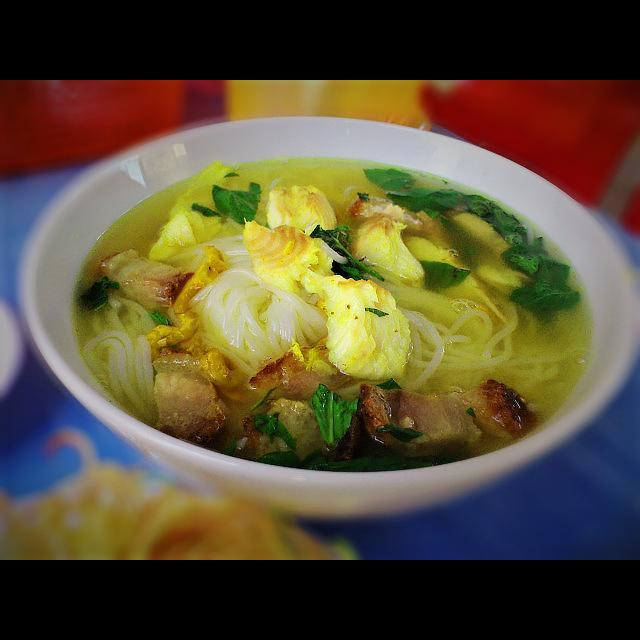bun: (161, 222, 336, 396), (394, 282, 605, 400), (51, 279, 168, 439)
bun ca: (48, 133, 606, 513)
ca: (291, 260, 419, 385), (236, 213, 348, 305), (347, 201, 433, 295), (260, 181, 345, 252)
rau ram: (308, 381, 364, 455)
thit heo quay: (354, 375, 541, 462), (144, 341, 238, 444), (91, 245, 196, 314)
